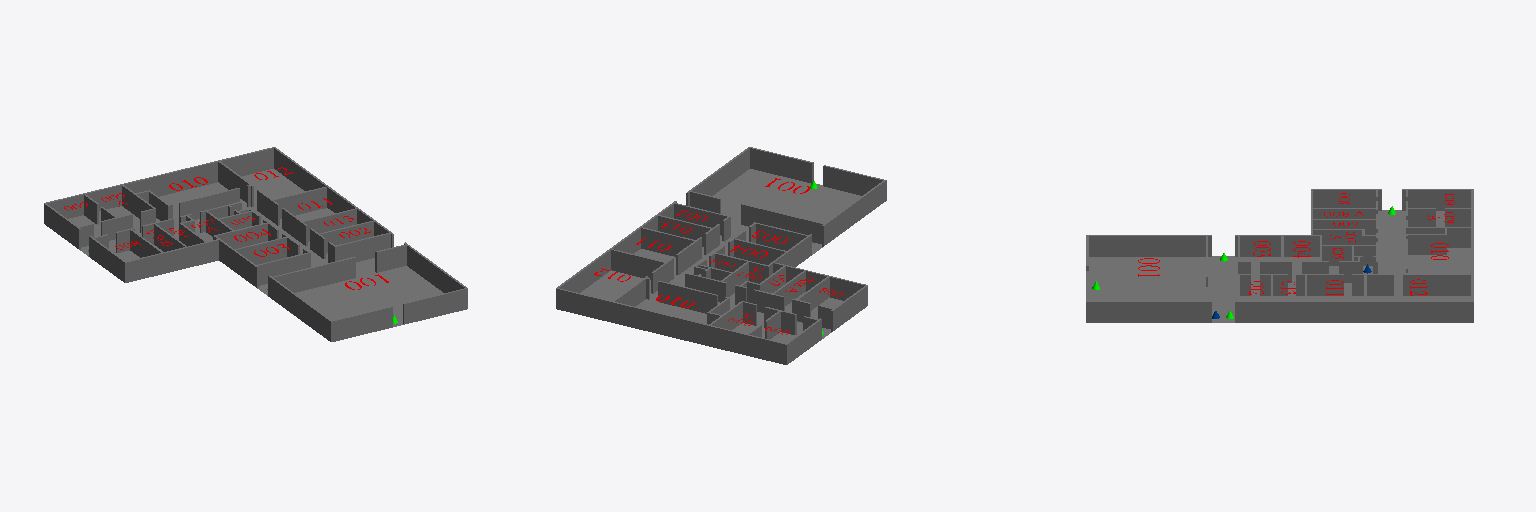
Rendered from bing0.obj.
The picture shows the model from 3 angles: view 1: azimuth 30°, elevation 25°; view 2: azimuth 150°, elevation 25°; view 3: azimuth 270°, elevation 25°; orthographic projection.
Parts seen in each view (by area): view 1: polySurface19, pCube59, pCube61, pCube57, pCube64, pCube63, pCube84, pCube62, pCube83, pCube67, pCube98, pCube72 (+11 smaller); view 2: polySurface19, pCube59, pCube57, pCube84, pCube64, pCube63, pCube83, pCube98, pCube62, pCube61, pCube72, pCube71 (+11 smaller); view 3: polySurface19, pCube57, pCube83, pCube84, pCube78, pCube85, pCube60, pCube91, pCube76, pCube77, pCube110, pCube89 (+5 smaller).
Boxes of the visible parts, x1=… form: polySurface19: x1=69, y1=169, x2=442, y2=326; pCube59: x1=44, y1=147, x2=273, y2=223; pCube61: x1=125, y1=239, x2=218, y2=282; pCube57: x1=273, y1=147, x2=393, y2=247; pCube64: x1=270, y1=257, x2=355, y2=297; pCube63: x1=403, y1=288, x2=467, y2=324; pCube84: x1=268, y1=276, x2=332, y2=340; pCube62: x1=330, y1=306, x2=392, y2=341; pCube83: x1=404, y1=242, x2=467, y2=308; pCube67: x1=335, y1=233, x2=390, y2=261; pCube98: x1=179, y1=188, x2=239, y2=222; pCube72: x1=271, y1=187, x2=326, y2=218; polySurface19: x1=581, y1=169, x2=870, y2=342; pCube59: x1=558, y1=288, x2=787, y2=364; pCube57: x1=556, y1=201, x2=676, y2=309; pCube84: x1=822, y1=180, x2=886, y2=246; pCube64: x1=741, y1=203, x2=823, y2=243; pCube63: x1=750, y1=147, x2=813, y2=183; pCube83: x1=686, y1=147, x2=750, y2=205; pCube98: x1=658, y1=281, x2=717, y2=313; pCube62: x1=823, y1=165, x2=886, y2=201; pCube61: x1=773, y1=262, x2=866, y2=300; pCube72: x1=611, y1=249, x2=667, y2=282; pCube71: x1=641, y1=227, x2=696, y2=256; polySurface19: x1=1089, y1=210, x2=1470, y2=322; pCube57: x1=1235, y1=301, x2=1473, y2=322; pCube83: x1=1086, y1=301, x2=1211, y2=322; pCube84: x1=1086, y1=235, x2=1211, y2=256; pCube78: x1=1403, y1=274, x2=1470, y2=295; pCube85: x1=1235, y1=235, x2=1310, y2=256; pCube60: x1=1402, y1=189, x2=1470, y2=210; pCube91: x1=1311, y1=189, x2=1381, y2=210; pCube76: x1=1296, y1=274, x2=1343, y2=295; pCube77: x1=1352, y1=274, x2=1393, y2=295; pCube110: x1=1322, y1=245, x2=1375, y2=265; pCube89: x1=1406, y1=227, x2=1470, y2=247.
Size of the model in its own units: 2351 by 202 by 3412.